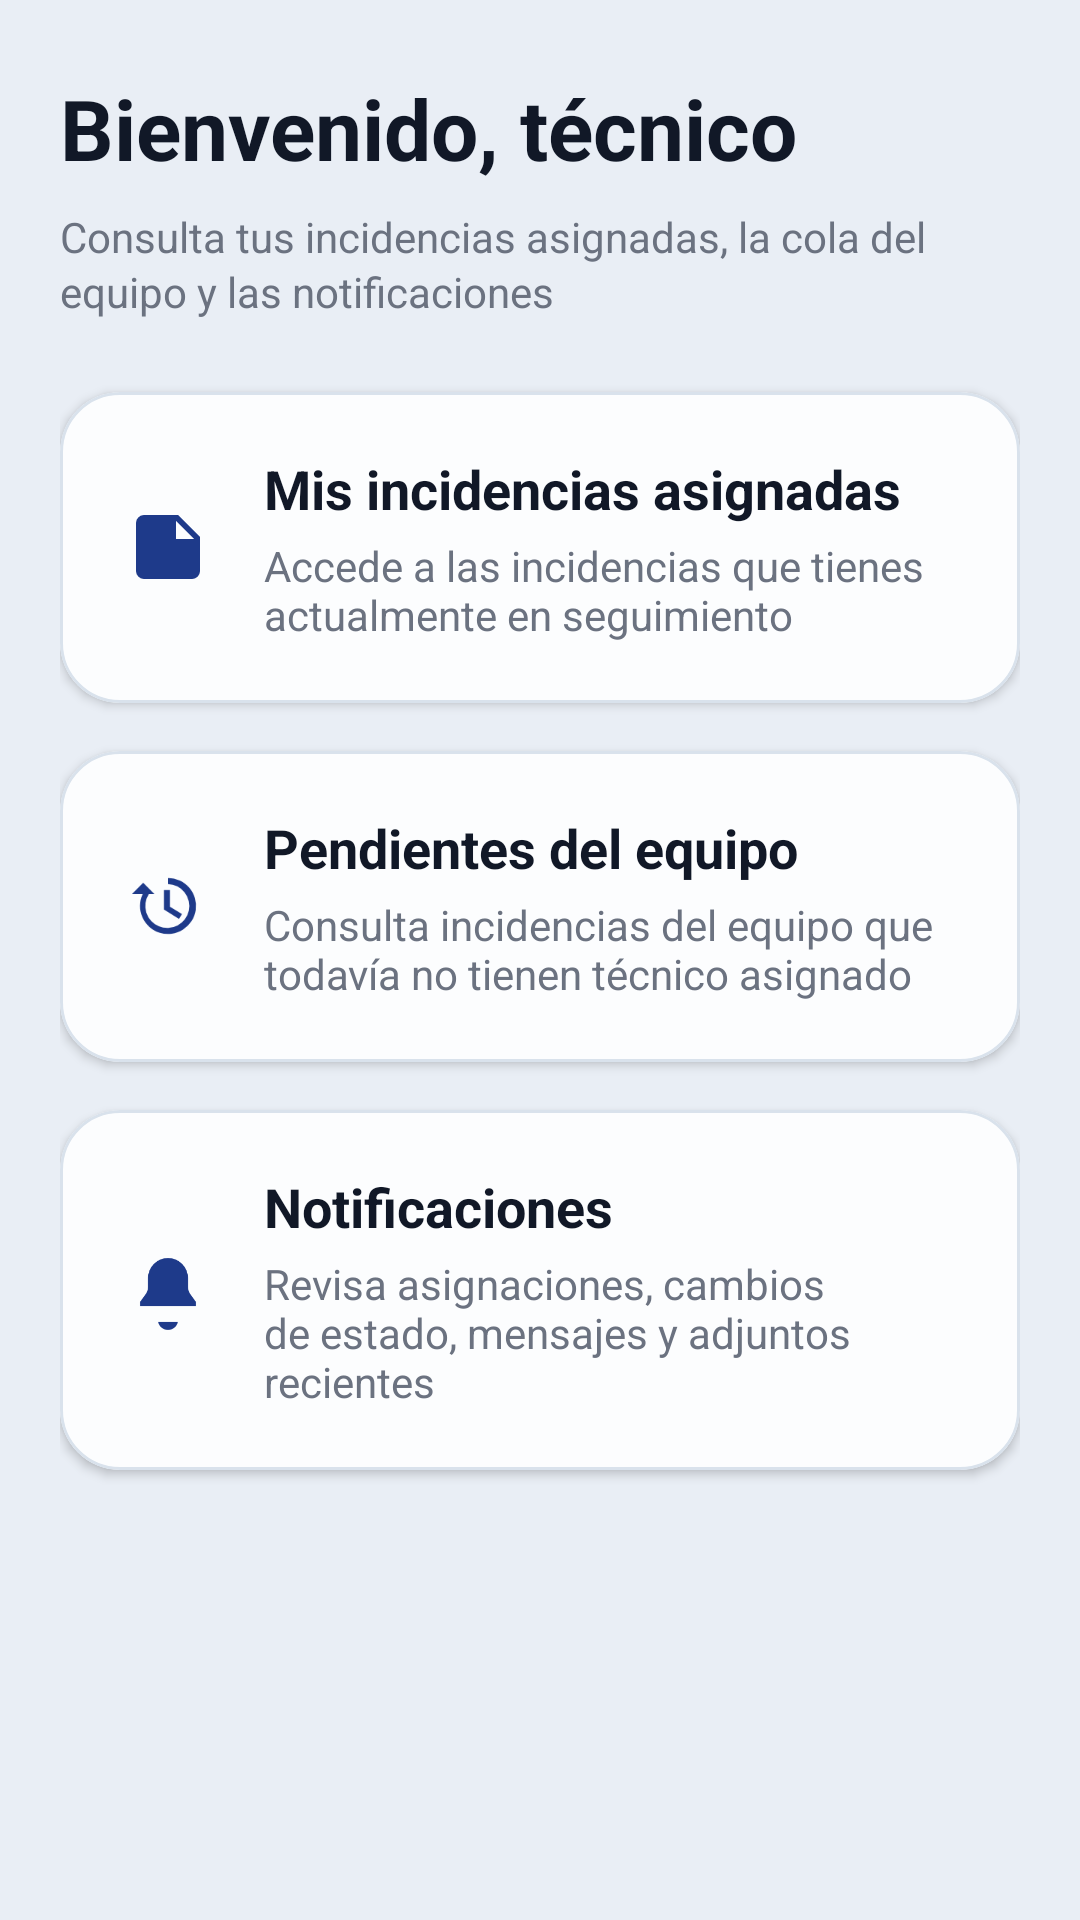

Icons on this 1080×1920 Android screen, each with its box as bbox(x1, y1, x2, y2):
home history: bbox(132, 878, 196, 935)
home notifications: bbox(140, 1258, 196, 1330)
